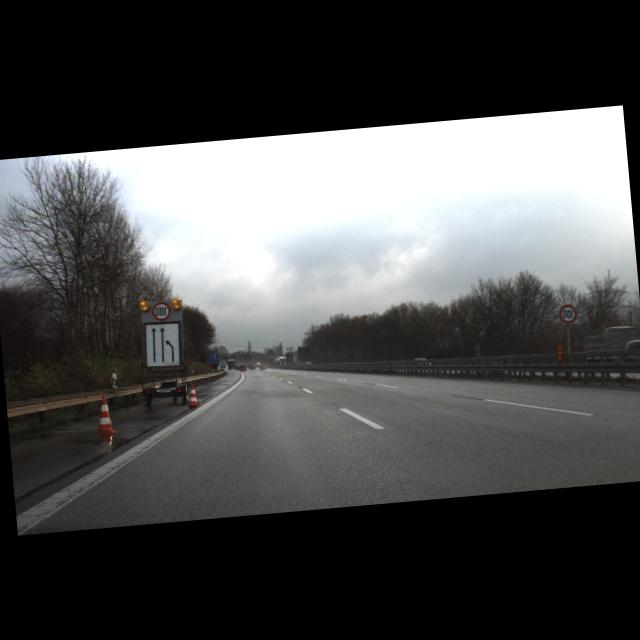prohibitory: (150, 300, 172, 322), (558, 302, 579, 323)
